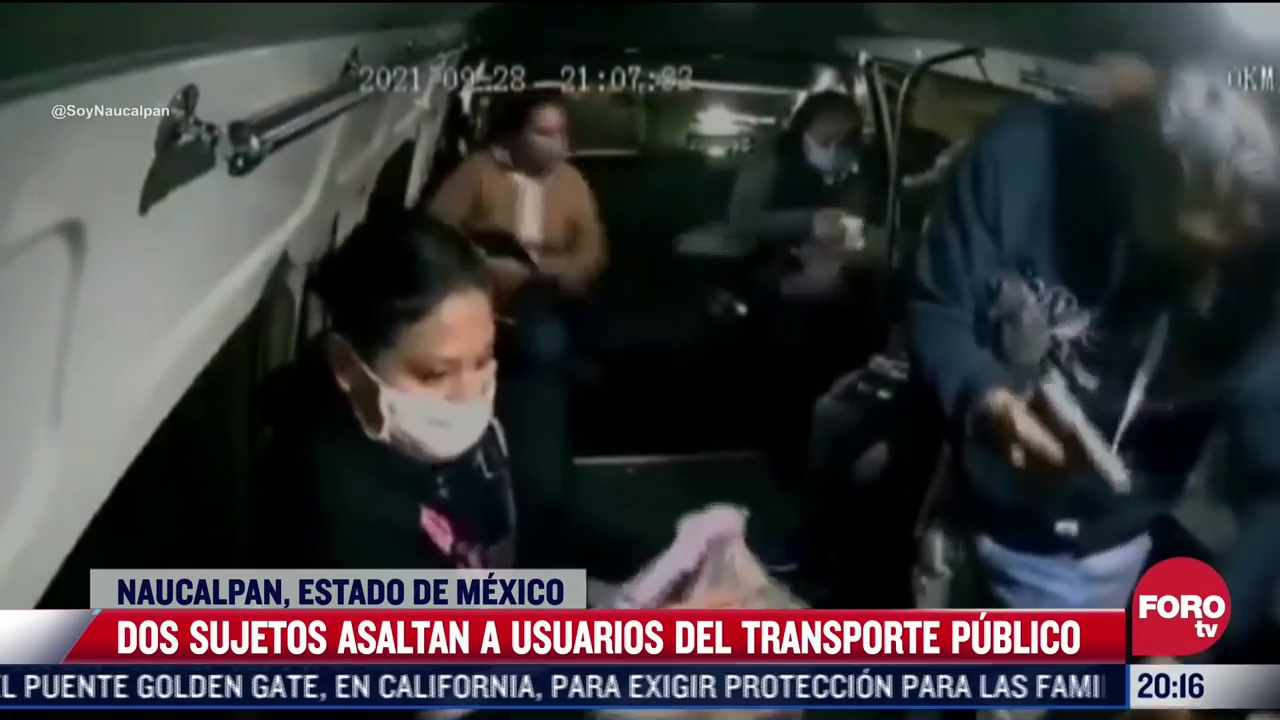pistol: (1029, 371, 1134, 496)
